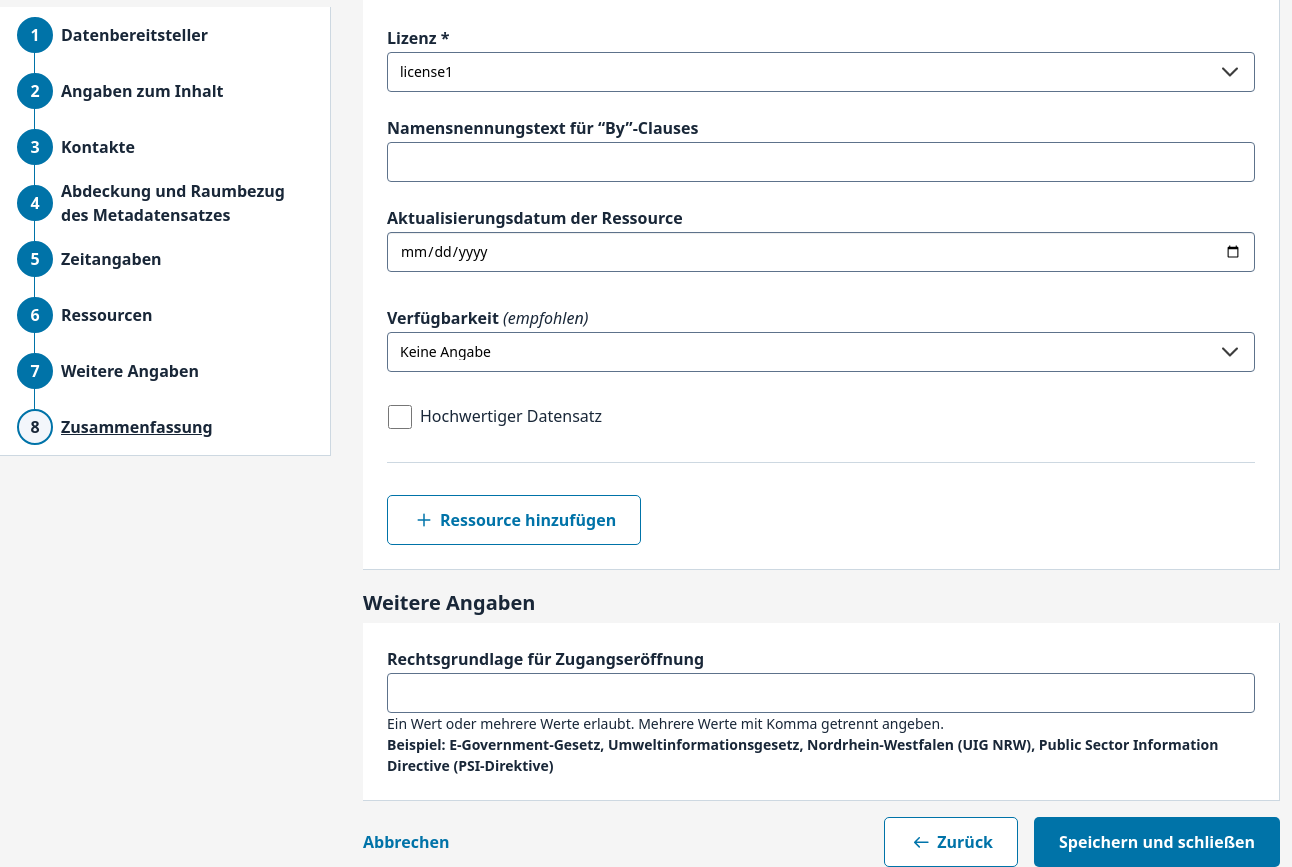
MetadataForm › should show timestamp in general error after a failed request
The width and height of the screenshot is (1292, 867).
(page scrolled)
Click the button "Speichern und schließen". click: (1157, 842)
box: [1034, 817, 1280, 866]
(page scrolled)
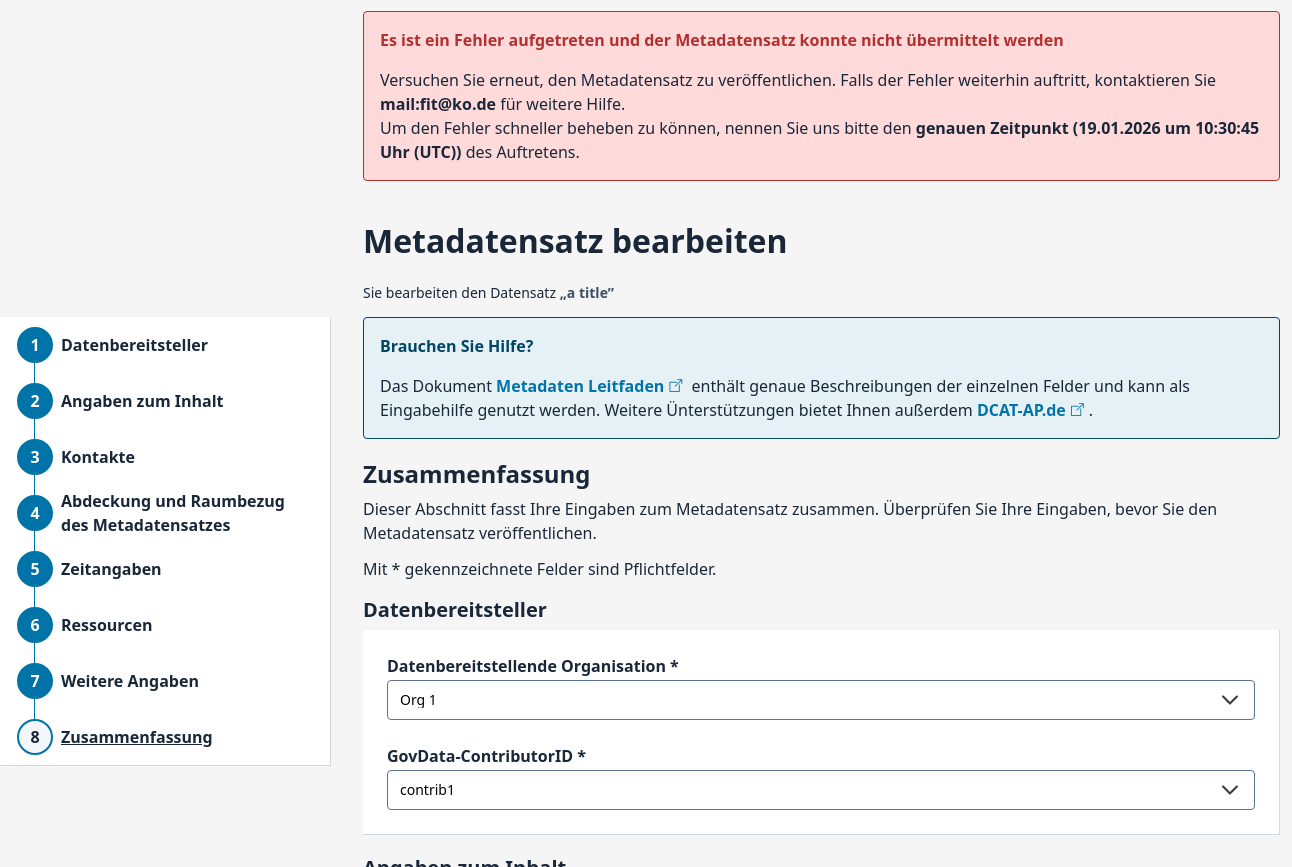
Expected: the text "Es ist ein Fehler aufgetreten" is shown, [380, 29, 1064, 51]
Expected: the text "genauen Zeitpunkt (19.01.2026 um 10:30:45 Uhr (UTC))" is shown, [380, 117, 1259, 163]
